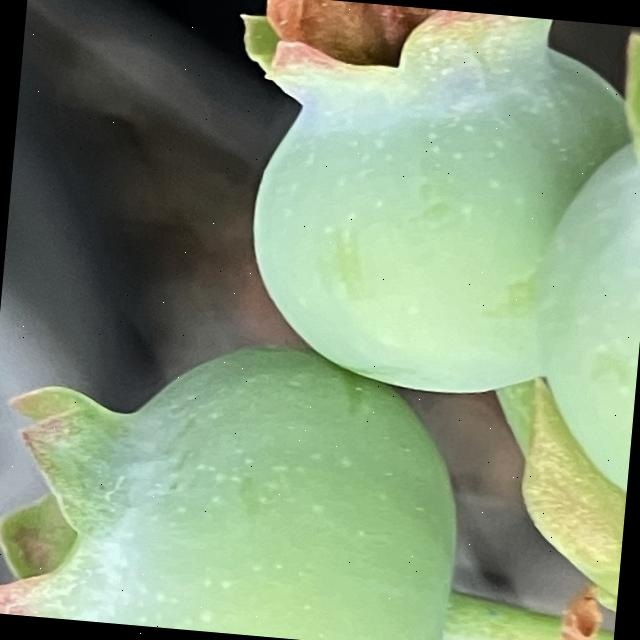Blueberries: (191, 0, 639, 415), (0, 319, 474, 640)
